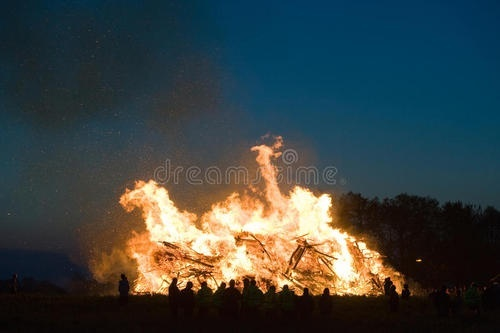fire: (120, 139, 401, 297)
